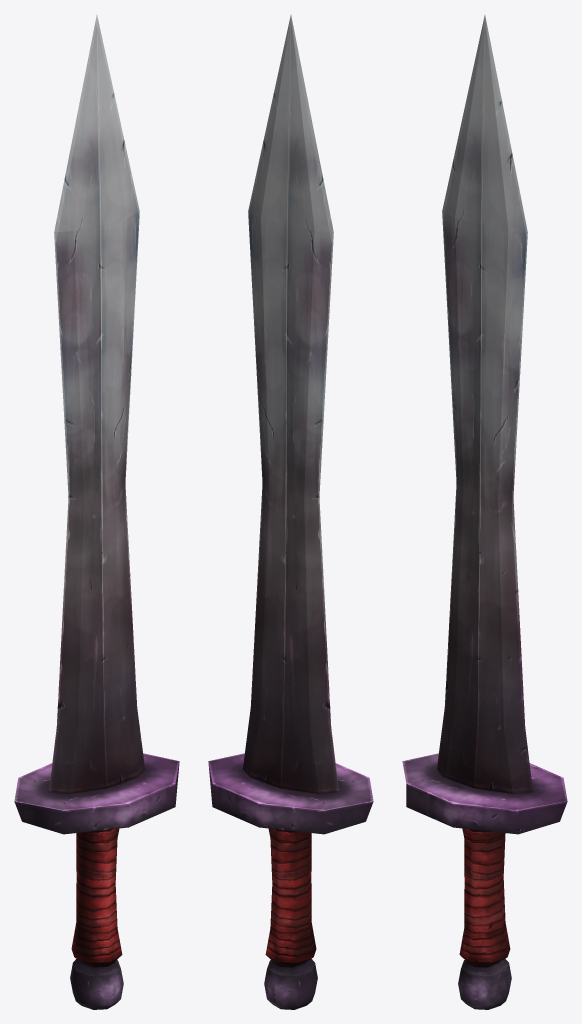
Rendered from Sword00.fbx.
3 views of the same model, side by side, from view 1: azimuth 30°, elevation 25°; view 2: azimuth 150°, elevation 25°; view 3: azimuth 330°, elevation 25° (orthographic).
Visible parts, largest first — view 1: Sword00; view 2: Sword00; view 3: Sword00.
Part boxes in pixels (x1,y1,x2,y2): Sword00: [14, 15, 179, 1009]; Sword00: [208, 15, 373, 1009]; Sword00: [402, 15, 567, 1009].
Bounding box in the file's own units: 0.2013 × 1.15 × 0.1344.
